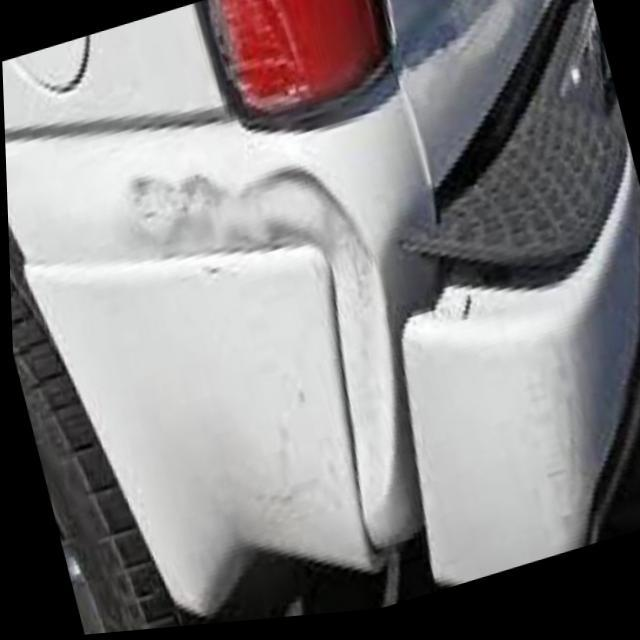dent: (119, 145, 396, 535)
